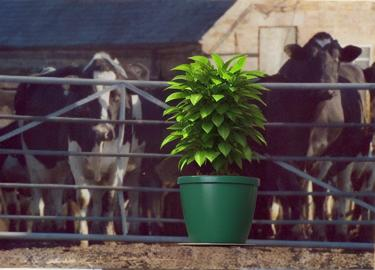cow: (18, 53, 151, 252), (258, 31, 373, 251)
pottedplant: (160, 53, 266, 246)
